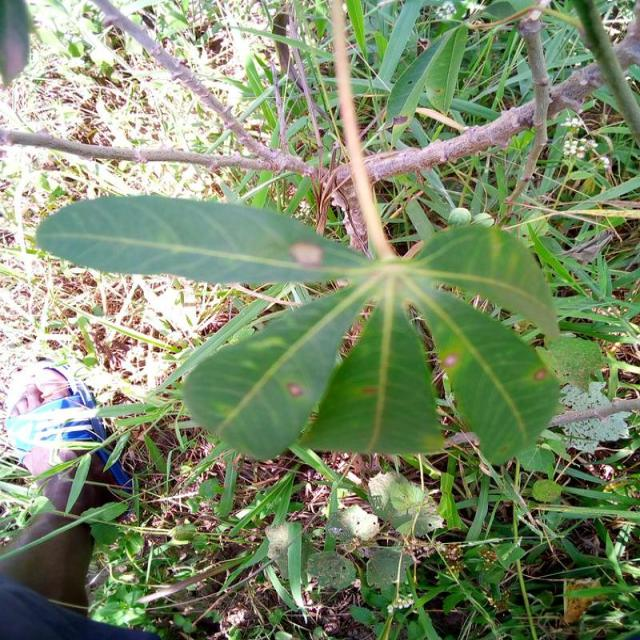cassava leaf: (35, 190, 563, 467), (34, 193, 372, 286), (296, 291, 445, 457)
